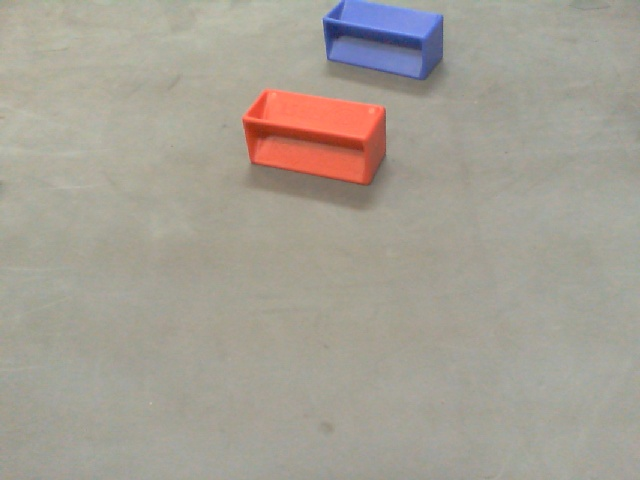BlueSample: (317, 1, 445, 85)
RedSample: (239, 87, 389, 187)
